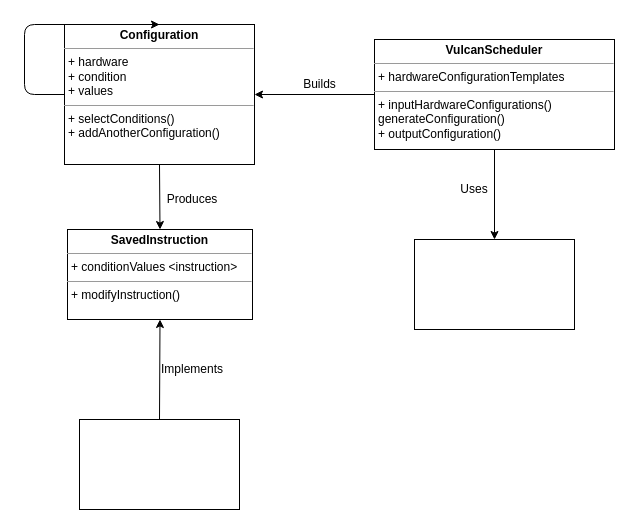
Some shapes in this 632 by 527 pixel diagram are drawn without their labels. The centre of each missing label's shape, as x and y in pixels:
ExportInstructions + + processInstructions() + convertToFile(): (x=159, y=464)
ProcessConfigFile + rawconfigurations : JSON + importConfigurations(): (x=494, y=284)
